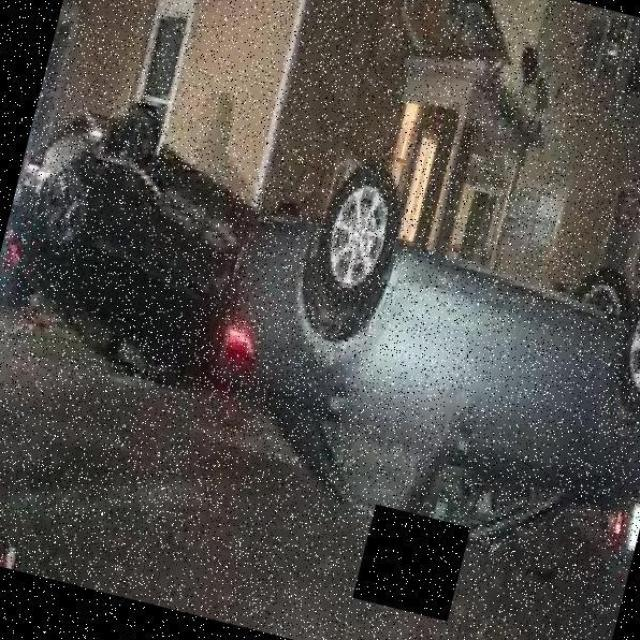accident: (166, 117, 640, 583), (0, 65, 282, 400)
